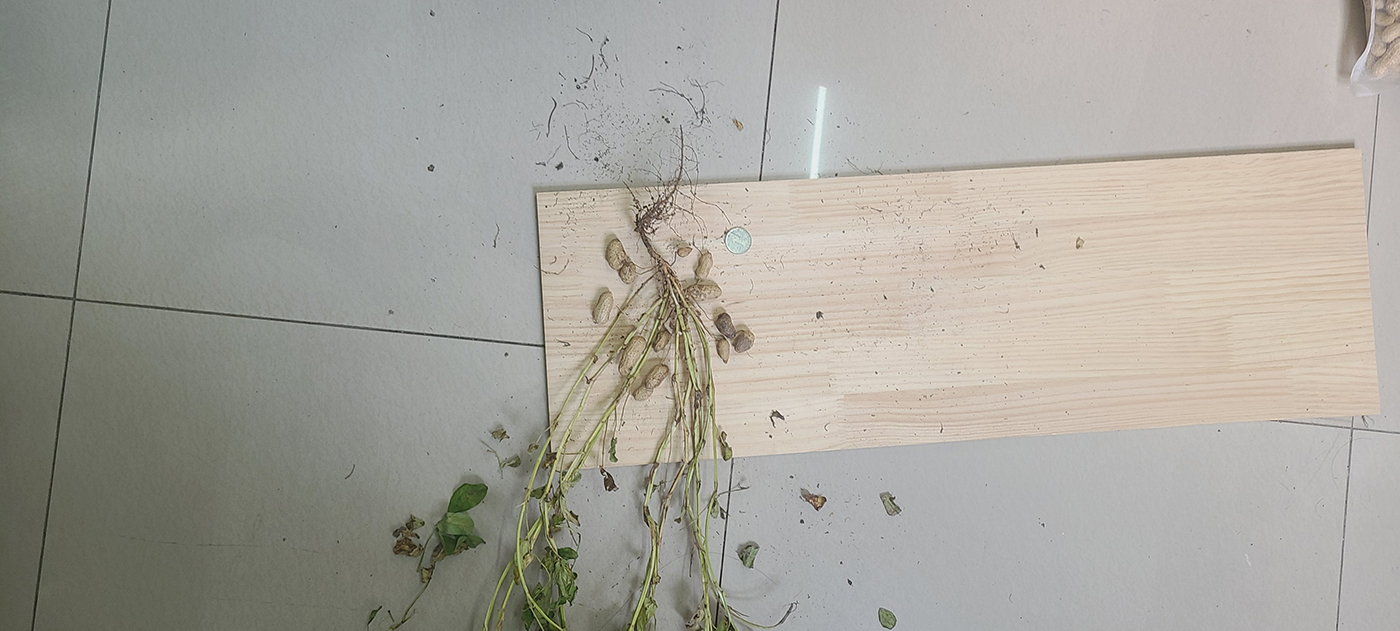h: (633, 363, 669, 401), (617, 336, 647, 376), (592, 291, 615, 324), (684, 284, 723, 302), (694, 251, 713, 280), (605, 240, 624, 268), (618, 261, 638, 285), (652, 329, 670, 353), (716, 341, 731, 363)
l: (714, 311, 736, 337), (734, 332, 755, 354)
